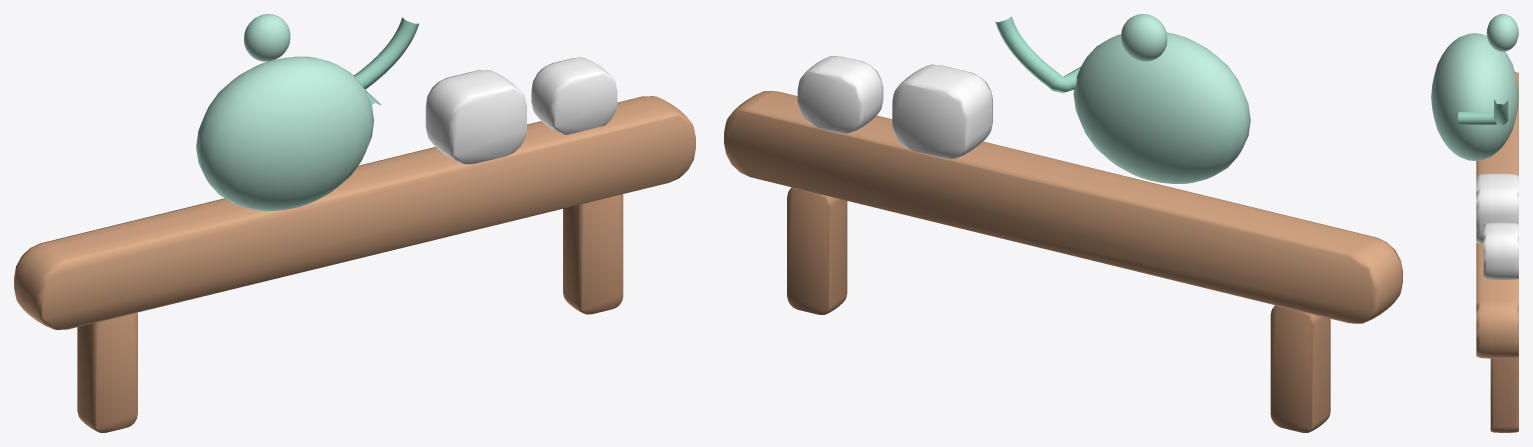
The model's file is decor_3_classic.glb.
The picture shows the model from 3 angles, left to right: view 1: azimuth 30°, elevation 25°; view 2: azimuth 150°, elevation 25°; view 3: azimuth 270°, elevation 25°; orthographic projection. The views are drawn at different scales.
Parts seen in each view (by area): view 1: decor_3_classic; view 2: decor_3_classic; view 3: decor_3_classic.
Boxes of the visible parts, box(x1,y1,x2,y2) form: decor_3_classic: box(14, 14, 695, 432); decor_3_classic: box(724, 14, 1402, 432); decor_3_classic: box(1431, 14, 1518, 432).
Size of the model in its own units: 12.5 by 6.73 by 1.86.
